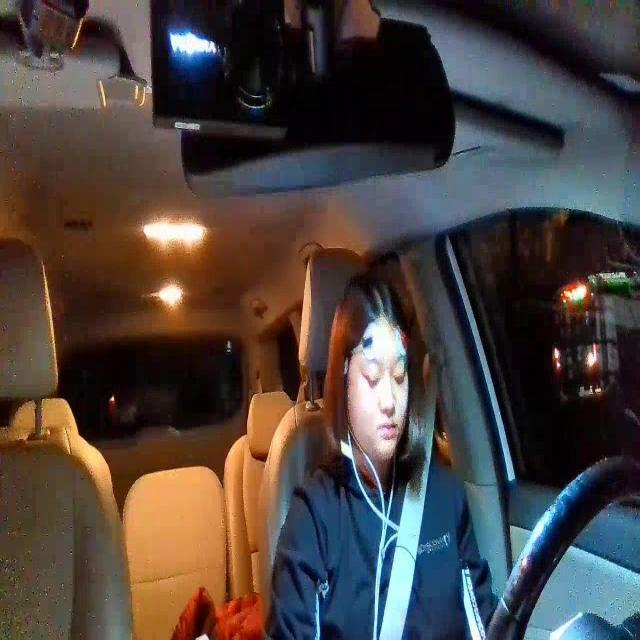Attentive: (335, 271, 411, 464)
Eye-Close: (362, 372, 380, 385), (390, 371, 408, 384)
